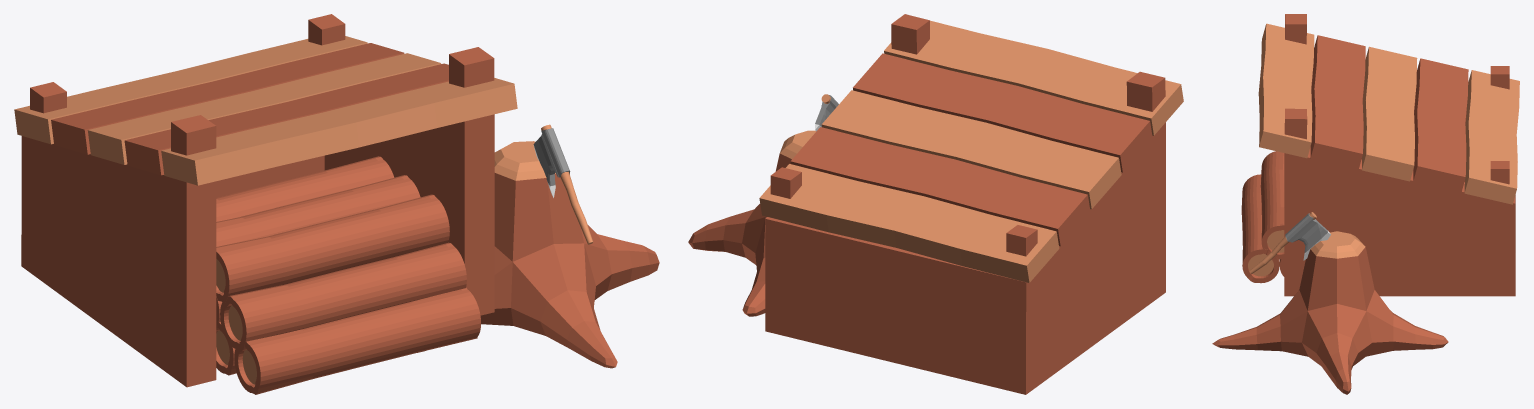
Rendered from OrcCity-Lumberyard.fbx.
3 views of the same model, side by side, from view 1: azimuth 30°, elevation 25°; view 2: azimuth 150°, elevation 25°; view 3: azimuth 270°, elevation 25° (orthographic). The views are drawn at different scales.
Parts seen in each view (by area): view 1: OrcCity-Lumberyard; view 2: OrcCity-Lumberyard; view 3: OrcCity-Lumberyard.
Boxes of the visible parts, bbox=[...] form: OrcCity-Lumberyard: bbox=[14, 14, 659, 394]; OrcCity-Lumberyard: bbox=[688, 14, 1183, 394]; OrcCity-Lumberyard: bbox=[1212, 14, 1519, 394].
Bounding box in the file's own units: 2.87 × 1.55 × 2.09.
